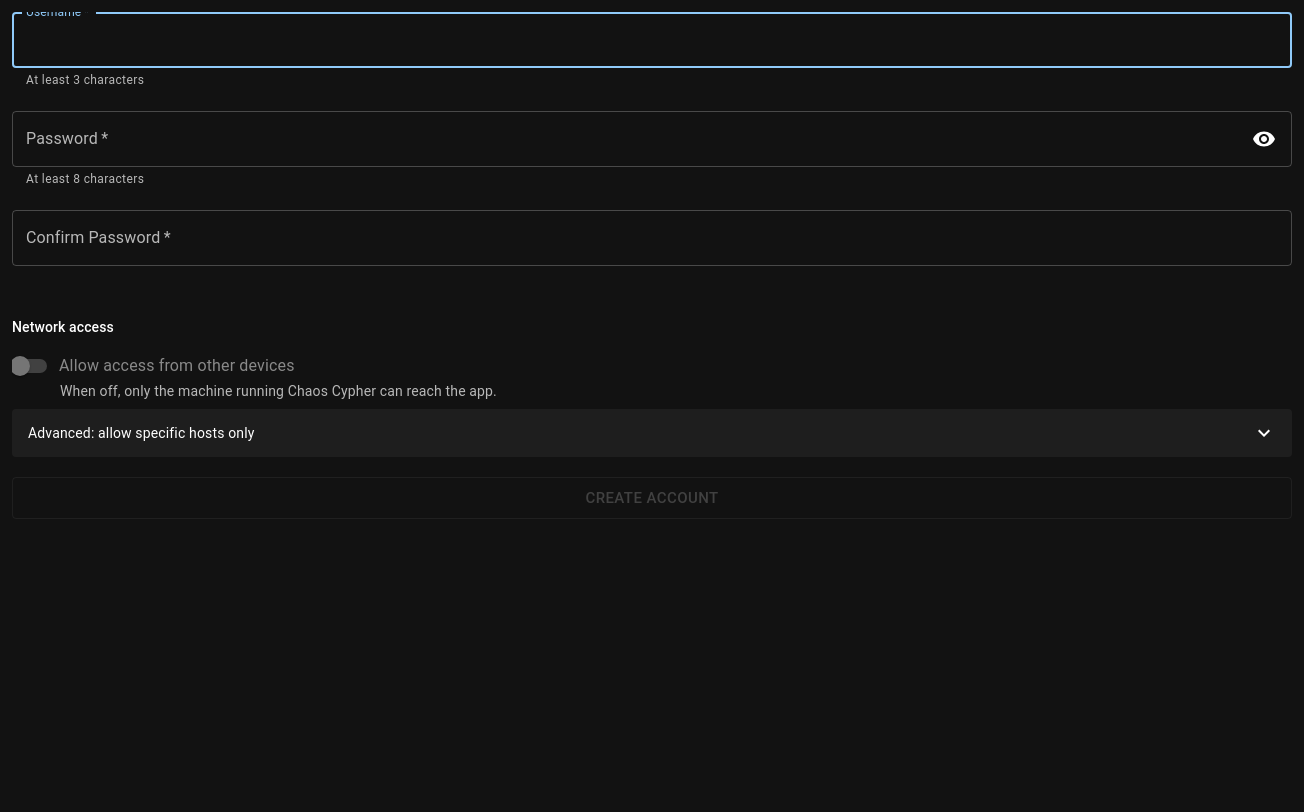
Scenario: AccountStep — Network access section › reveals the advanced chip-input when expanded
Click the button "Advanced: allow specific hosts only": (141, 433) [12,409,1292,457]
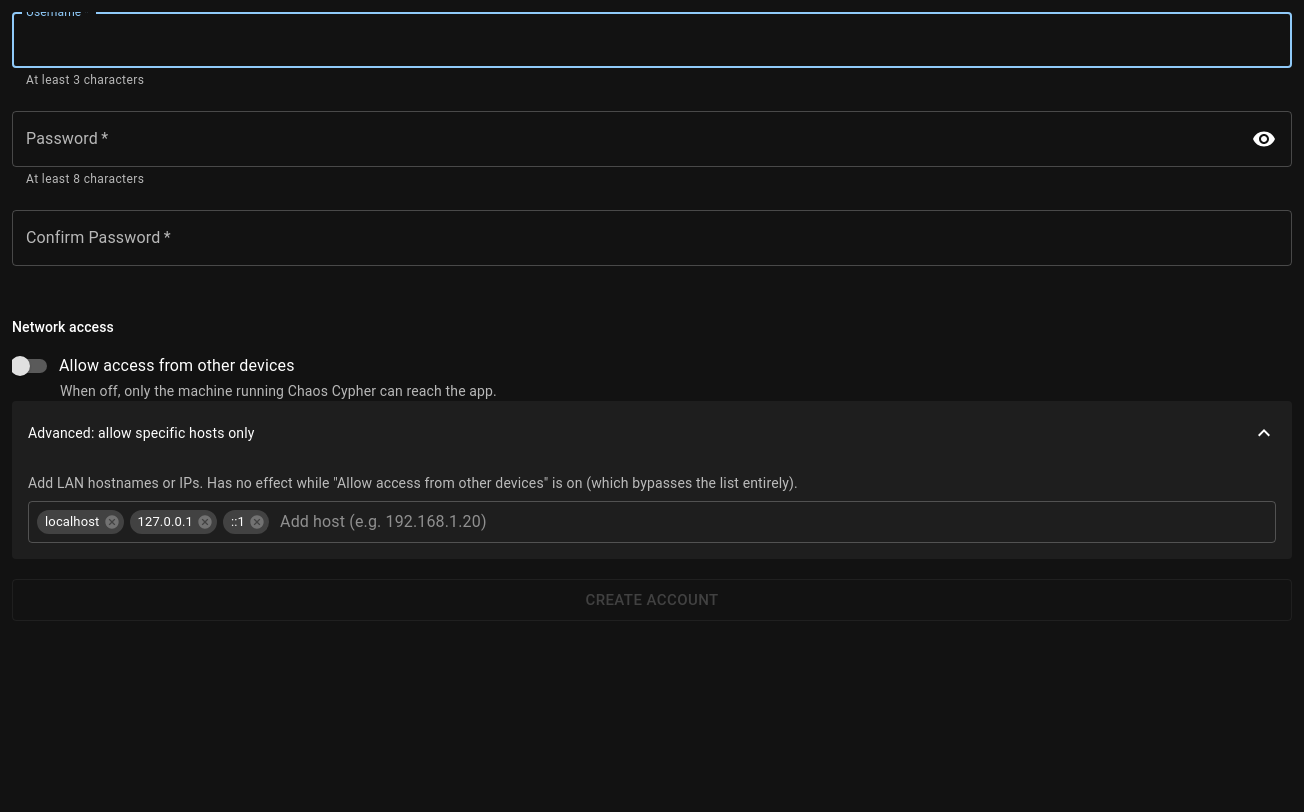
Now the dropdown with placeholder "Add host (e.g. 192.168.1.20)" is shown, box [272,508,1237,536]
